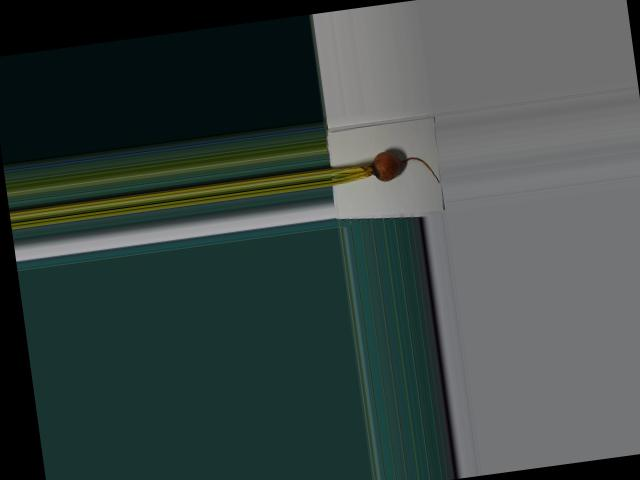beet: (328, 145, 439, 196)
